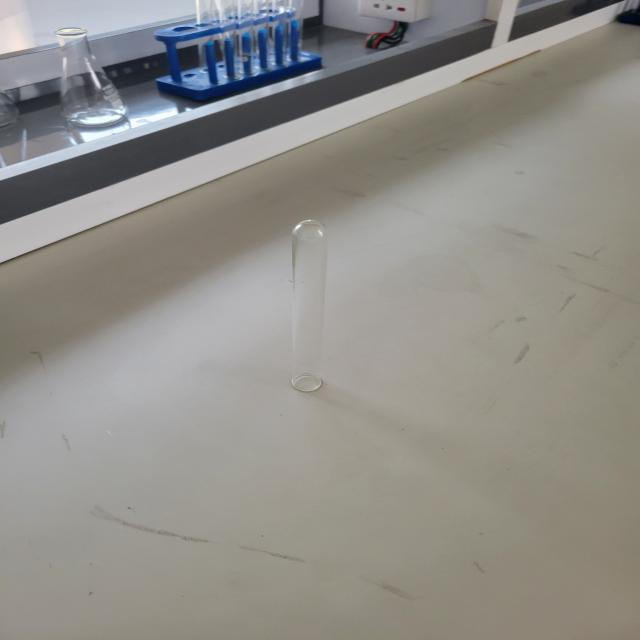Test_Tube: (261, 180, 370, 422)
